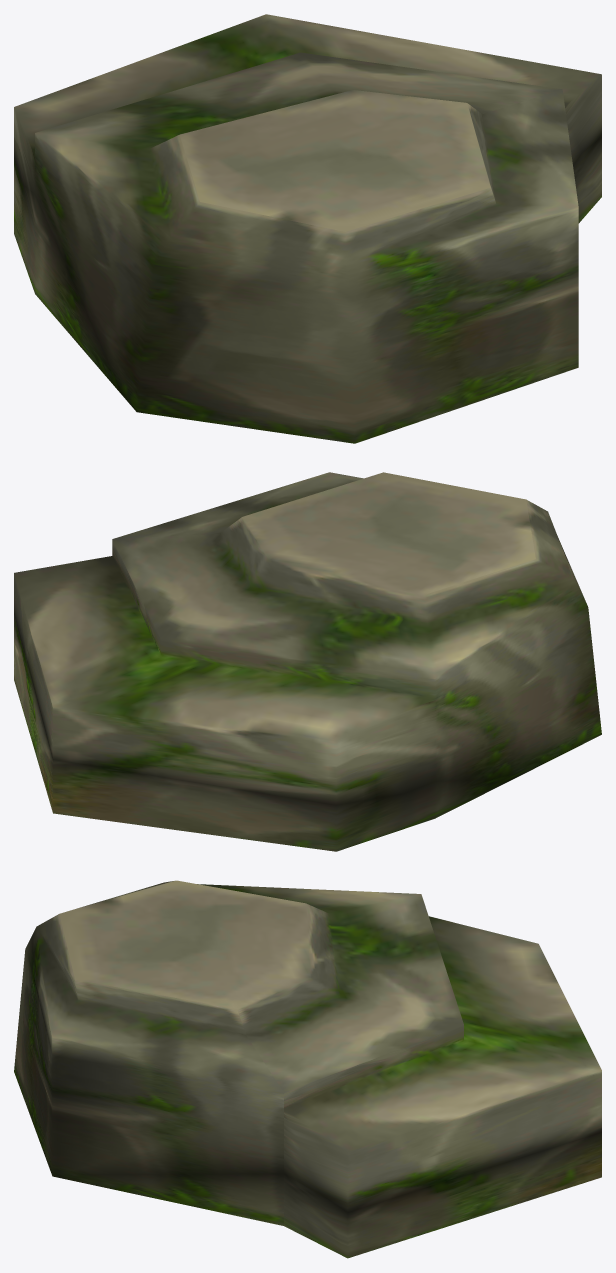
Rendered from RockFormation_4_5 (23).fbx.
3 renders of one model, top to bottom at view 1: azimuth 30°, elevation 25°; view 2: azimuth 150°, elevation 25°; view 3: azimuth 270°, elevation 25°, orthographic. The views are drawn at different scales.
Visible parts, largest first — view 1: RockFormation_4_5 (23); view 2: RockFormation_4_5 (23); view 3: RockFormation_4_5 (23).
Boxes of the visible parts, box(x1,y1,x2,y2) form: RockFormation_4_5 (23): box(14, 14, 601, 443); RockFormation_4_5 (23): box(14, 472, 601, 851); RockFormation_4_5 (23): box(14, 880, 601, 1258).
Bounding box in the file's own units: 767 × 243 × 786.
